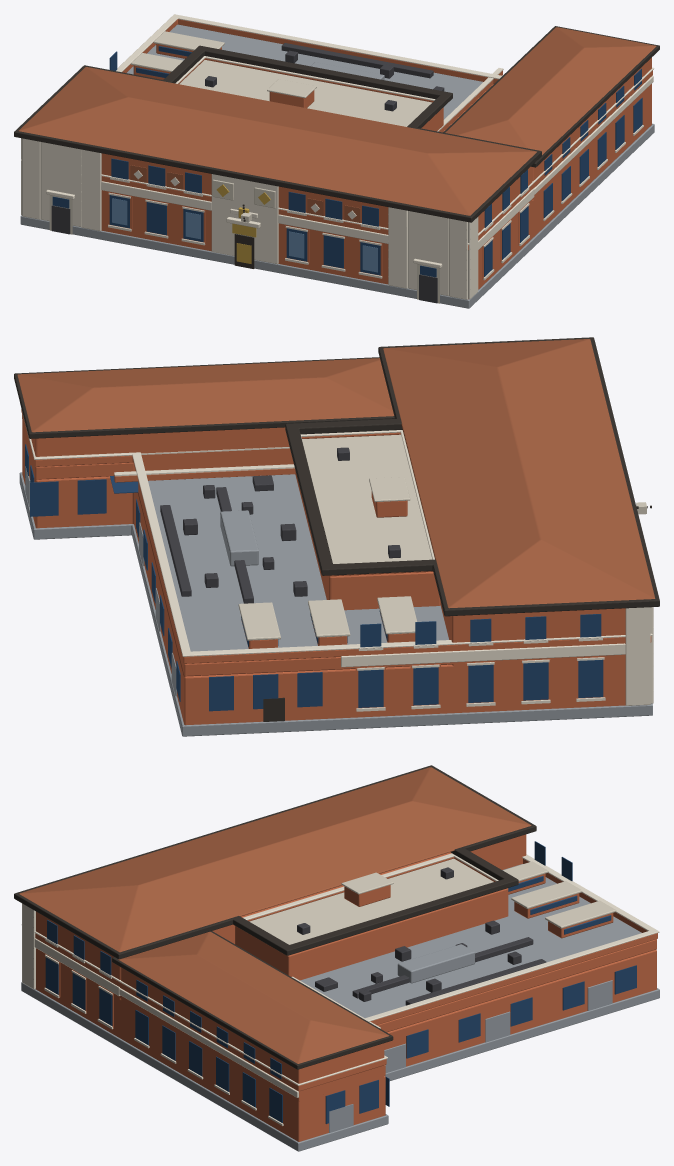
The model's file is mid_weldjoin.glb.
3 views of the same model, one above another, from view 1: azimuth 30°, elevation 25°; view 2: azimuth 150°, elevation 25°; view 3: azimuth 270°, elevation 25° (orthographic). The views are drawn at different scales.
Visible parts, largest first — view 1: grp_Toy_rust, grp_Toy_sand, grp_Toy_brick, grp_Toy_ink, grp_Toy_steel, grp_Toy_glass, low_body, mid_body, grp_Toy_stone, grp_Toy_roofd, grp_Toy_glassl_Glow, grp_Toy_gold_Glow; view 2: grp_Toy_rust, grp_Toy_steel, grp_Toy_brick, mid_body, grp_Toy_sand, grp_Toy_glass, low_body, grp_Toy_ink, grp_Toy_stone, grp_Toy_roofd; view 3: grp_Toy_rust, grp_Toy_brick, grp_Toy_steel, mid_body, low_body, grp_Toy_glass, grp_Toy_ink, grp_Toy_sand, grp_Toy_roofd, grp_Toy_stone.
Boxes of the visible parts, x1,y1,x2,y2 form: grp_Toy_rust: (18,27,656,222); grp_Toy_sand: (21,14,654,299); grp_Toy_brick: (101,19,652,288); grp_Toy_ink: (14,26,659,268); grp_Toy_steel: (20,24,654,308); grp_Toy_glass: (52,46,642,277); low_body: (101,88,651,289); mid_body: (179,60,443,132); grp_Toy_stone: (49,31,470,303); grp_Toy_roofd: (51,43,444,303); grp_Toy_glassl_Glow: (112,198,377,272); grp_Toy_gold_Glow: (232,223,256,263); grp_Toy_rust: (17,339,655,608); grp_Toy_steel: (19,466,652,736); grp_Toy_brick: (21,409,651,712); mid_body: (295,434,440,610); grp_Toy_sand: (20,403,653,711); grp_Toy_glass: (25,444,603,711); low_body: (22,428,624,725); grp_Toy_ink: (14,337,659,721); grp_Toy_stone: (238,477,653,691); grp_Toy_roofd: (160,447,400,603); grp_Toy_rust: (19,767,531,1063); grp_Toy_brick: (35,834,657,1141); grp_Toy_steel: (21,864,659,1151); mid_body: (235,858,508,980); low_body: (36,950,656,1141); grp_Toy_glass: (45,841,636,1123); grp_Toy_ink: (14,765,536,1069); grp_Toy_sand: (21,853,659,1125); grp_Toy_roofd: (297,867,546,1005); grp_Toy_stone: (33,861,616,979).
Bounding box in the file's own units: 69.84 × 12.65 × 65.2.
